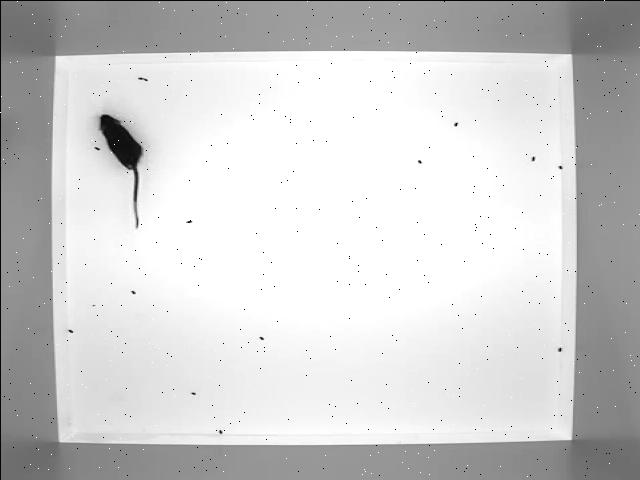Tikus: (92, 112, 156, 234)
